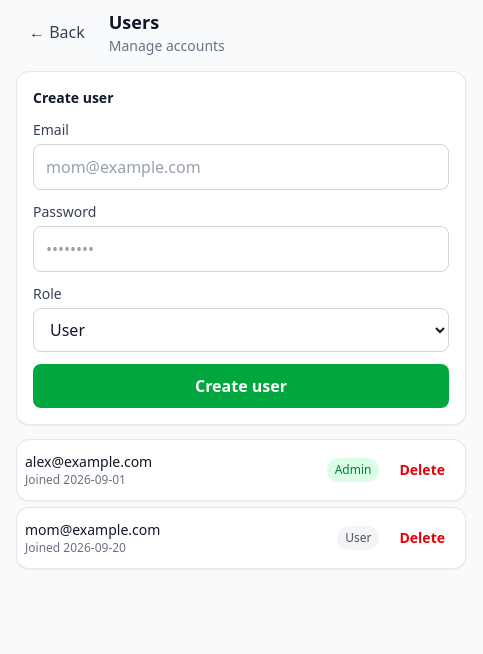
Scenario: UsersPage (docs/TASKS.md → T32) › shows the owns-lists message when deleting fails with 409 and keeps the row
Expected: the list item with test id "user-row-u2" is shown, [17,508,465,568]
Click the button with aria-label "Delete mom@example.com" at [422, 538], box [388,516,457,560]
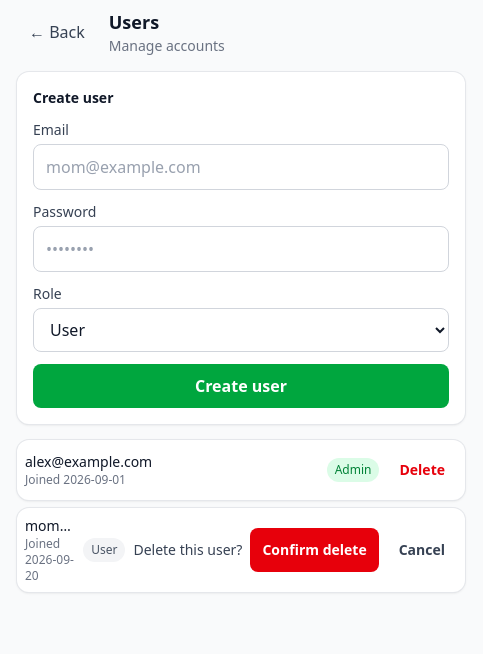
Click the button "Confirm delete" at [315, 550], box [250,528,379,572]
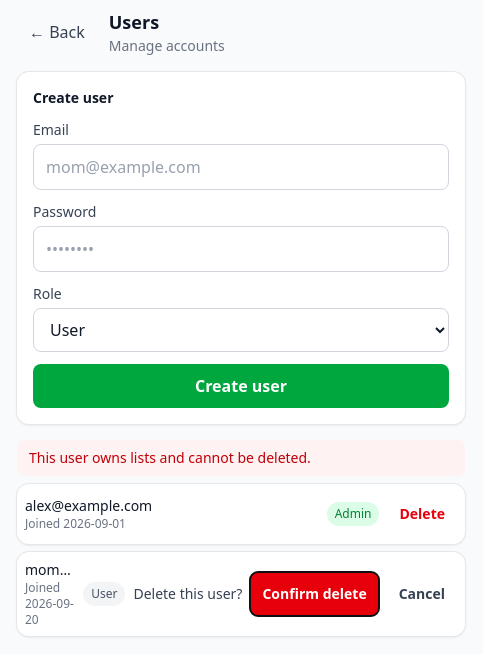
Expected: the list item with test id "user-row-u2" is shown, [17,552,465,636]
Result: the text "This user owns lists and cannot be deleted." is shown at [17,440,465,476]
